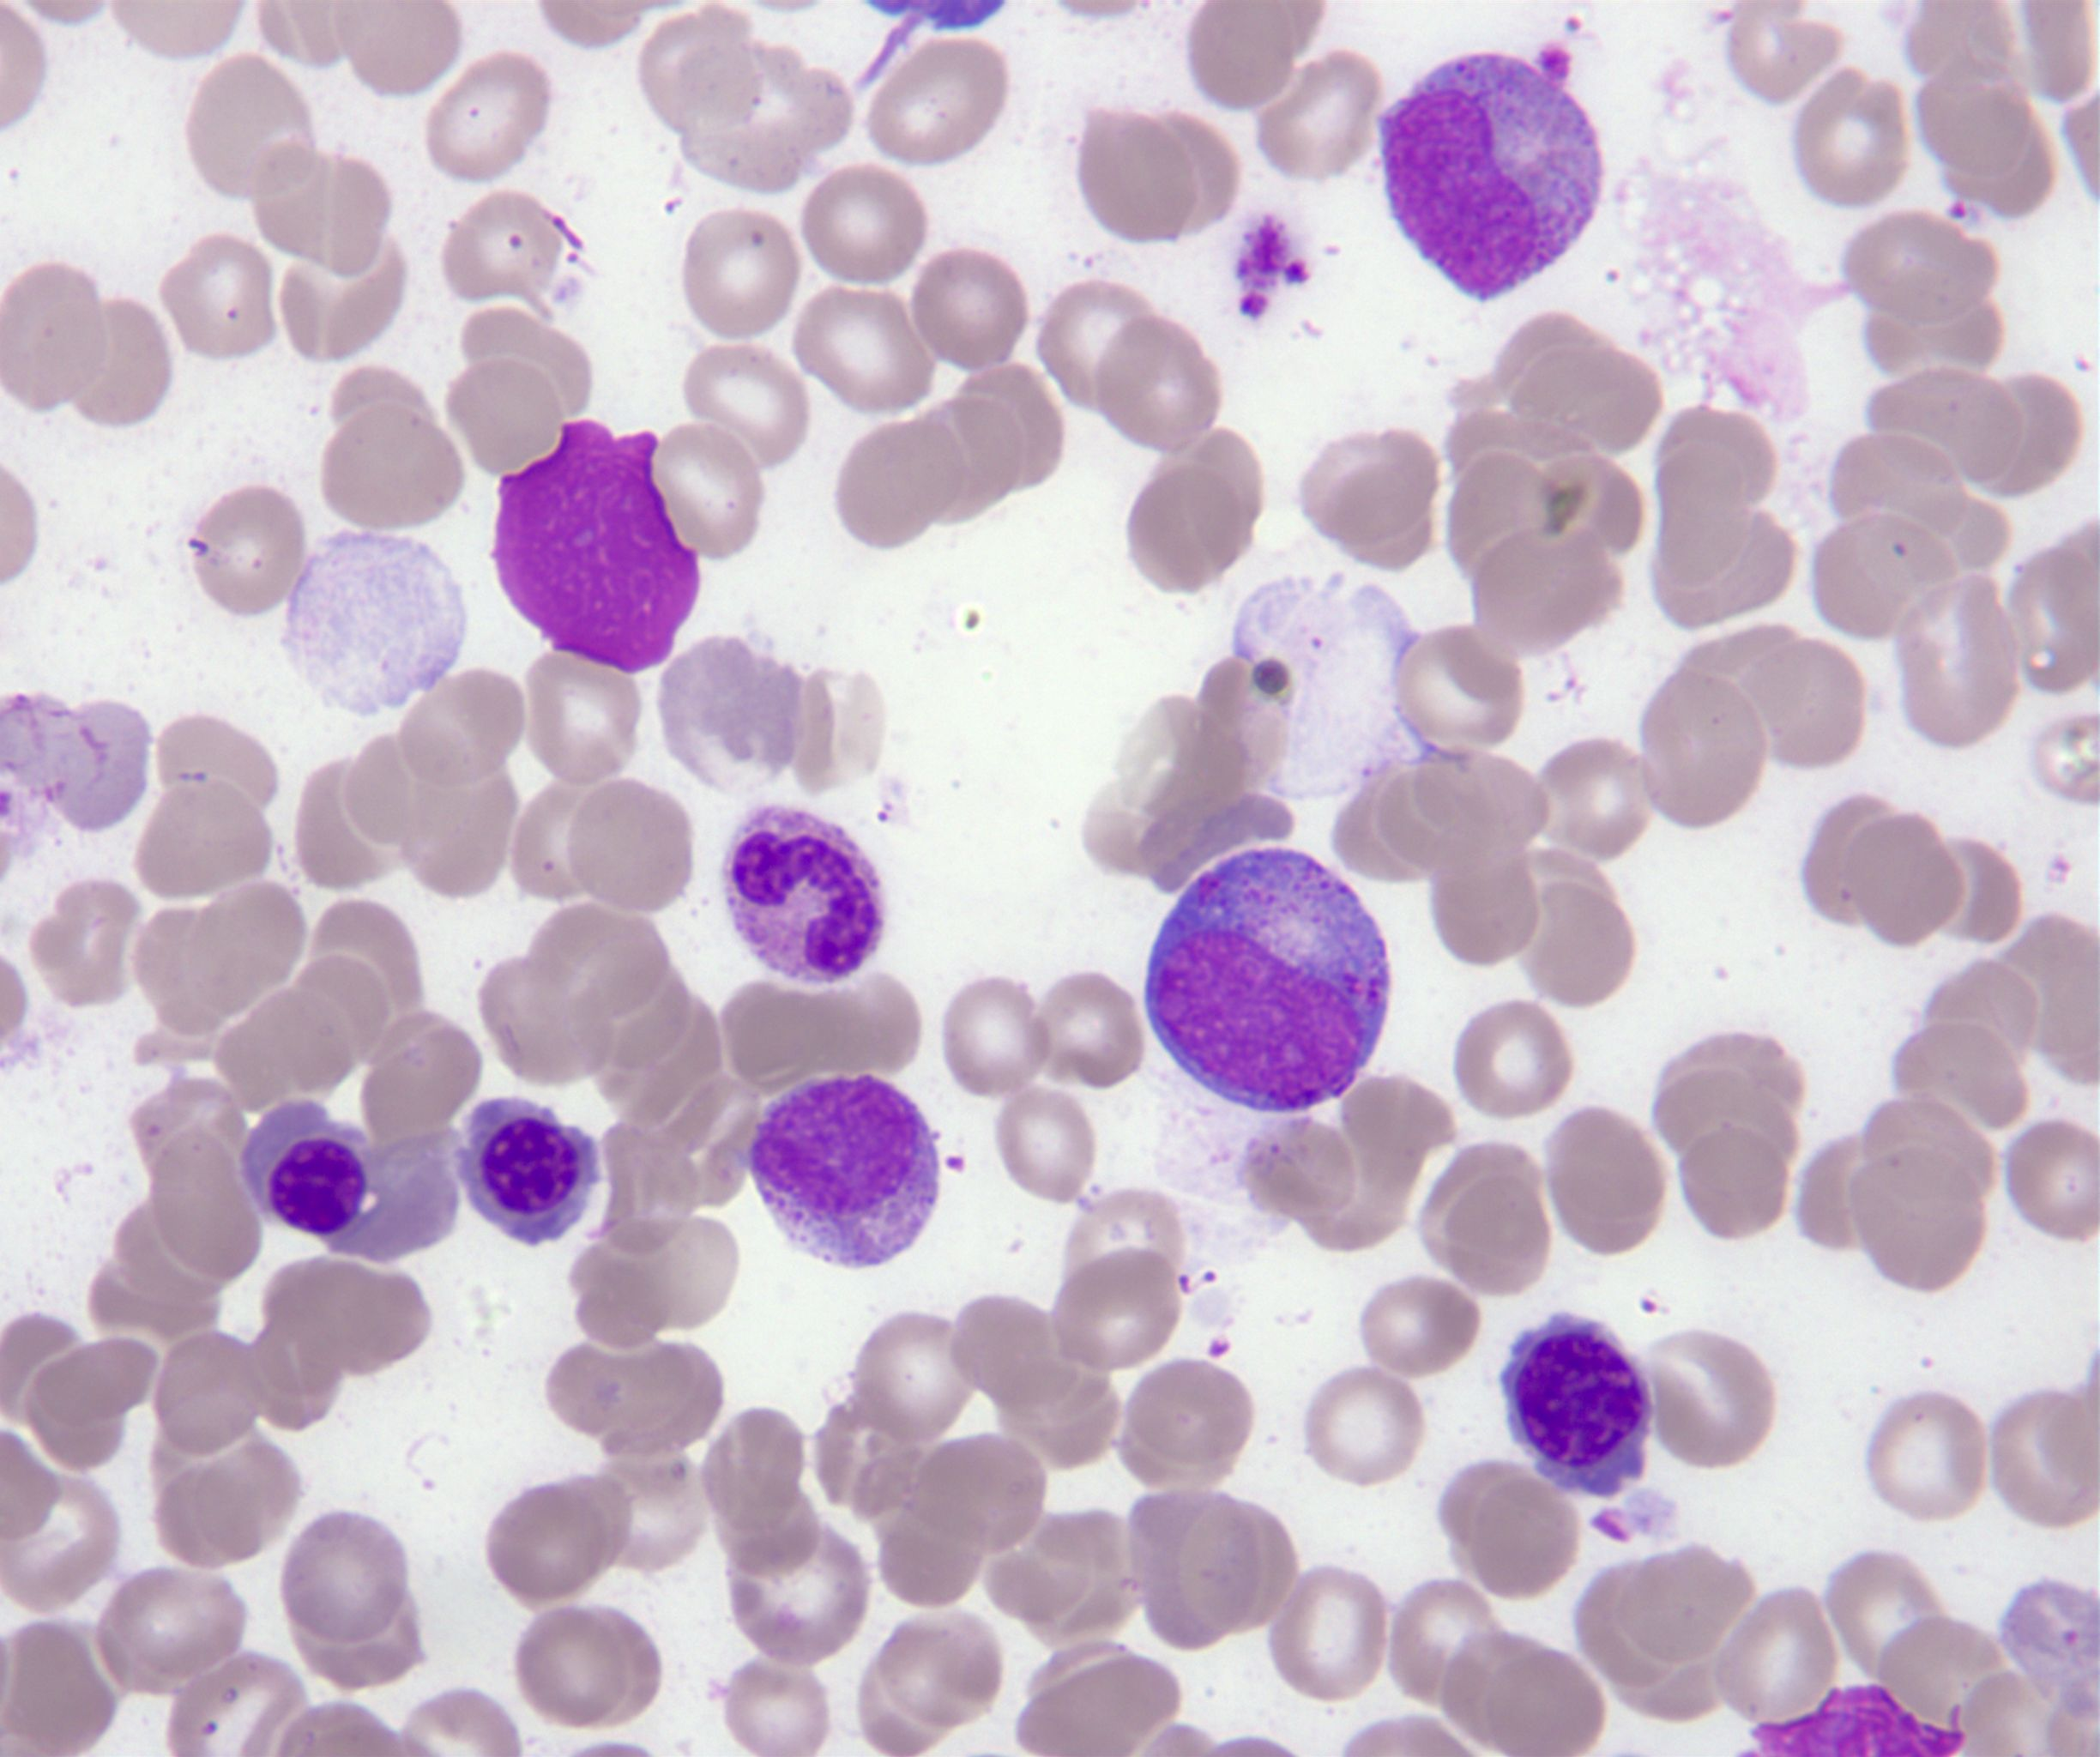2: (1144, 848, 1388, 1115)
24: (1500, 1312, 1647, 1499), (452, 1097, 598, 1246), (239, 1103, 375, 1241)
3: (1380, 54, 1603, 298), (753, 1078, 937, 1270)
5: (724, 811, 881, 984)
x: (494, 420, 701, 675)
